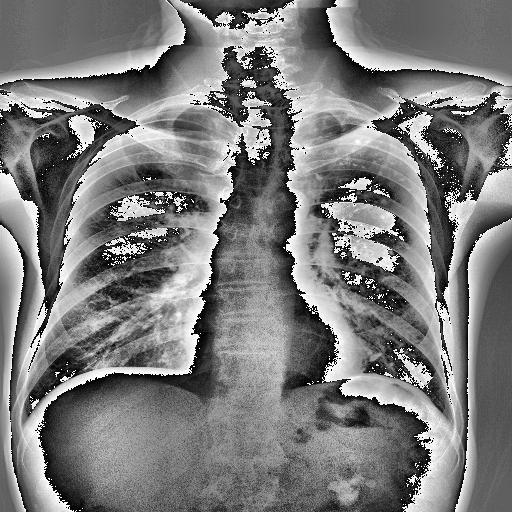13- Pulmonary fibrosis: (315, 132, 418, 194)
2- Calcification: (308, 130, 426, 202), (315, 132, 418, 194), (372, 243, 406, 292), (359, 343, 414, 364), (358, 344, 396, 369), (372, 244, 415, 264)
8- Nodule-Mass: (370, 349, 384, 361), (315, 172, 324, 182), (308, 214, 318, 222), (388, 248, 398, 256), (352, 137, 362, 145), (360, 164, 367, 170), (398, 176, 406, 181), (381, 200, 389, 204), (356, 190, 362, 195)
